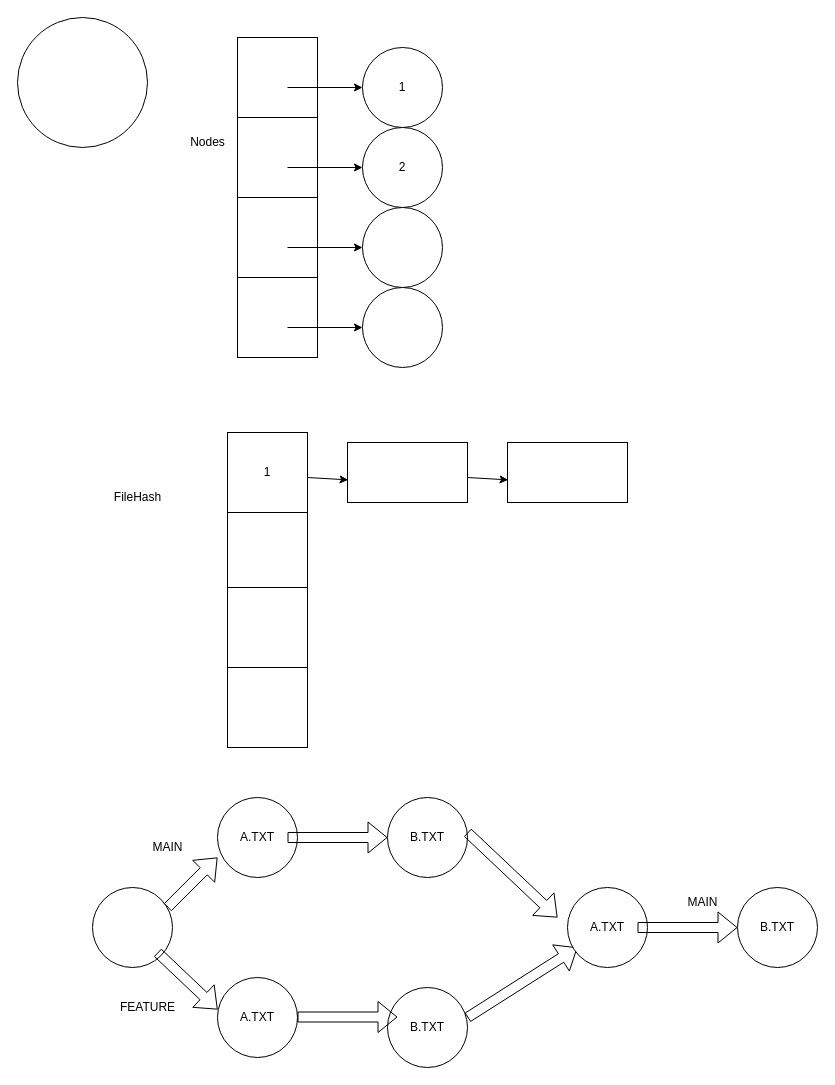
Image size: 835x1085. Some labels were removed from this diagram. The shapes that lost their labels are listed below. From the top down, each one's centre as x and y in pixels, then its label:
At (x=82, y=82): "REPONAME commit".
At (x=132, y=927): "REPONAME".
